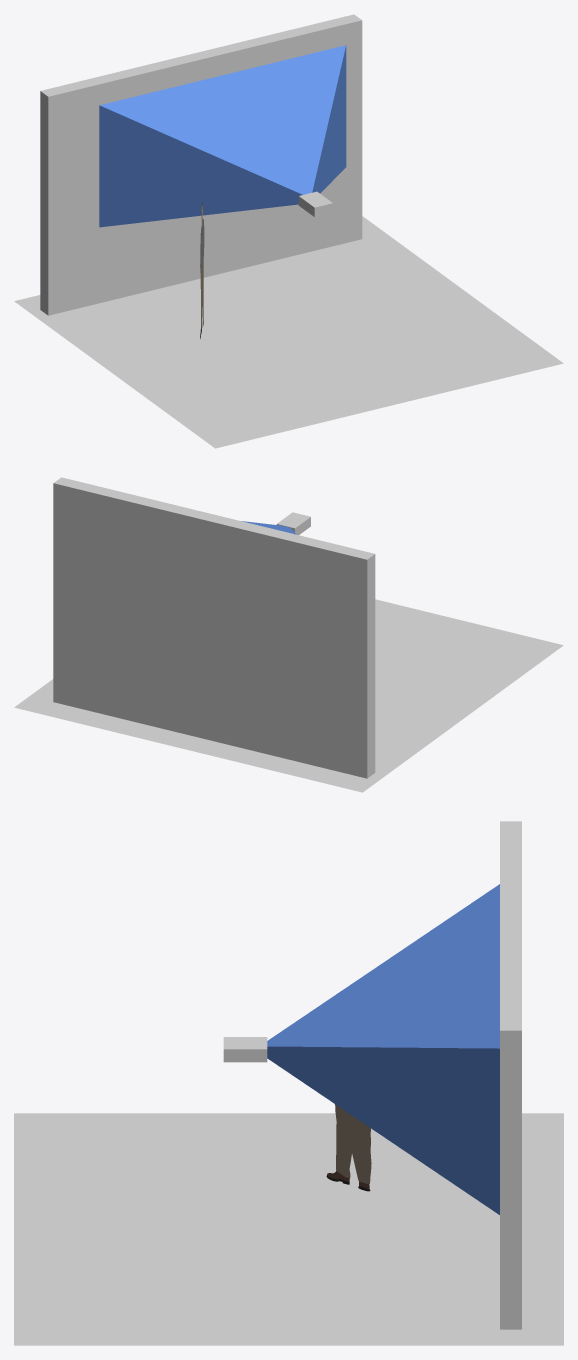
File: SET_12_ParedPiano.obj
3 views of the same model, one above another, from view 1: azimuth 30°, elevation 25°; view 2: azimuth 150°, elevation 25°; view 3: azimuth 270°, elevation 25° (orthographic). The views are drawn at different scales.
Parts seen in each view (by area): view 1: Mesh42 Component_9_1 Model, Mesh45 Component_80_1 Model, Mesh43 Component_67_1 Component_66_1 Component_65_1 Model, Mesh44 Component_6_1 Component_66_1 Component_65_1 Model; view 2: Mesh45 Component_80_1 Model, Mesh42 Component_9_1 Model, Mesh44 Component_6_1 Component_66_1 Component_65_1 Model; view 3: Mesh42 Component_9_1 Model, Mesh43 Component_67_1 Component_66_1 Component_65_1 Model, Mesh45 Component_80_1 Model, Mesh41 Derrick1 Model, Mesh44 Component_6_1 Component_66_1 Component_65_1 Model.
Part boxes in pixels (box(x1,y1,x2,y2)): Mesh42 Component_9_1 Model: box(14, 216, 563, 448); Mesh45 Component_80_1 Model: box(40, 14, 362, 315); Mesh43 Component_67_1 Component_66_1 Component_65_1 Model: box(99, 45, 346, 227); Mesh44 Component_6_1 Component_66_1 Component_65_1 Model: box(298, 191, 332, 217); Mesh45 Component_80_1 Model: box(53, 477, 375, 778); Mesh42 Component_9_1 Model: box(14, 599, 563, 792); Mesh44 Component_6_1 Component_66_1 Component_65_1 Model: box(276, 512, 310, 534); Mesh42 Component_9_1 Model: box(14, 1113, 563, 1345); Mesh43 Component_67_1 Component_66_1 Component_65_1 Model: box(267, 884, 499, 1214); Mesh45 Component_80_1 Model: box(500, 821, 521, 1329); Mesh41 Derrick1 Model: box(326, 1104, 371, 1191); Mesh44 Component_6_1 Component_66_1 Component_65_1 Model: box(223, 1037, 267, 1062).
Size of the model in its own units: 5000 by 3000 by 5000.
